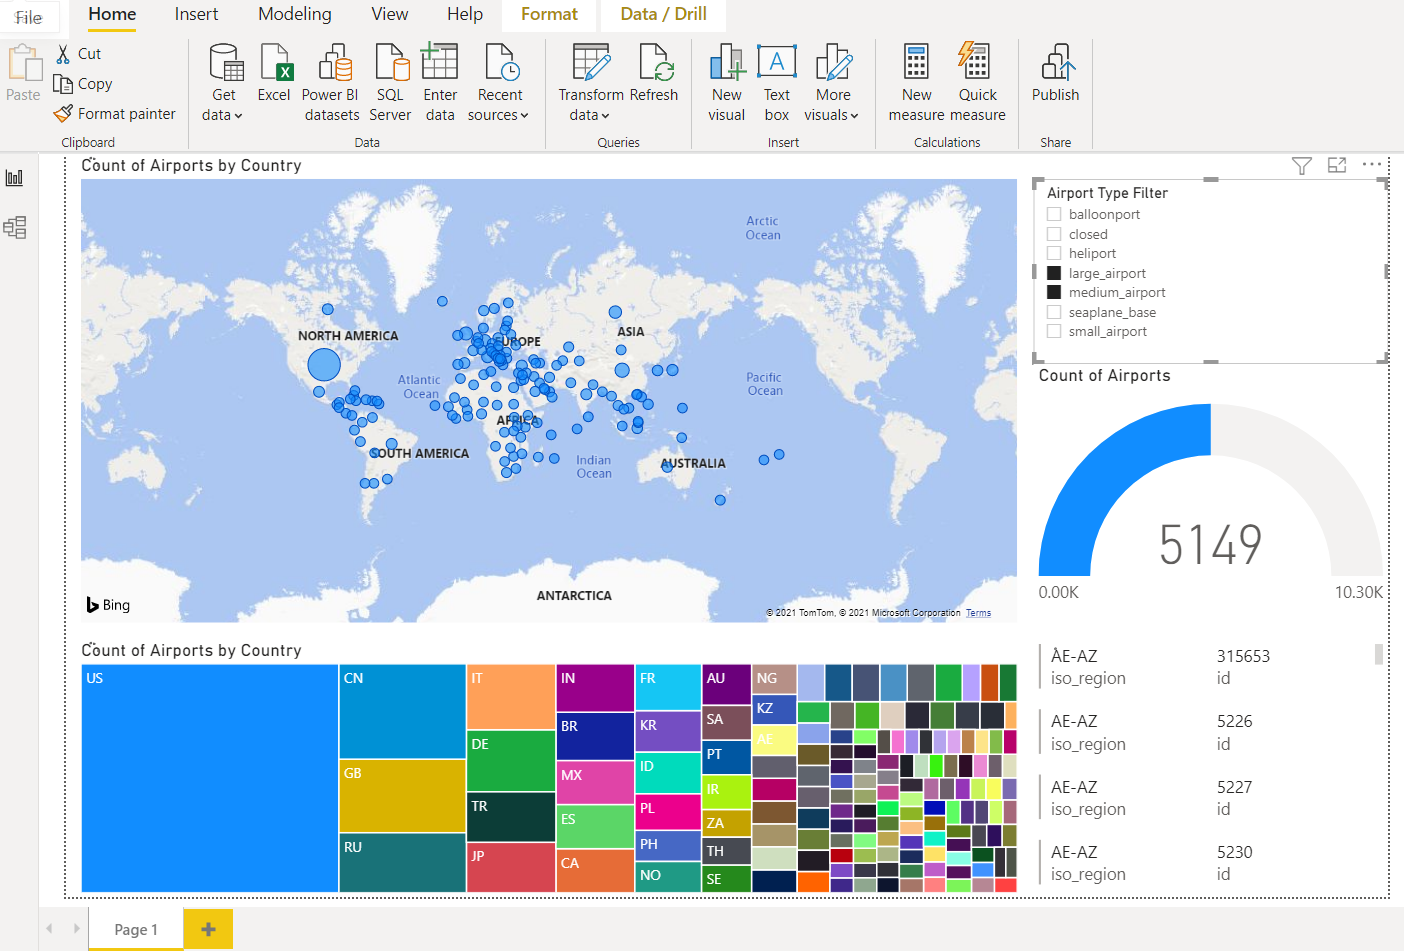

This screenshot's page, from the dashboard's own definition file:
{"tool":"powerbi","page":{"name":"Page 1","canvas":[1280,720],"ordinal":0},"visuals":[{"type":"map","fields":{"Category":["airports.iso_country"],"Size":["CountNonNull(airports.id)"]},"box":[9.6,0,916.1,458.7],"z":0},{"type":"treemap","fields":{"Group":["airports.iso_country"],"Values":["CountNonNull(airports.id)"]},"box":[10,469,916,251],"z":1000},{"type":"slicer","fields":{"Values":["airports.type"]},"box":[936.6,24.2,343.7,179.1],"z":1001},{"type":"gauge","fields":{"Y":["CountNonNull(airports.id)"]},"box":[937,203,343,256],"z":1002},{"type":"multiRowCard","fields":{"Values":["airports.iso_region","airports.id"]},"box":[937,469,343,251],"z":1003}]}

Visuals, with their boxes on the page's 1280x720 design canvas (x1, y1, x2, y2). These are canvas units, not pixel positions in the 1404x951 screenshot, which may show the page scaled, cropped or inside an application window:
map - airports.iso_country x CountNonNull(airports.id): select_region(10, 0, 926, 459)
treemap - airports.iso_country x CountNonNull(airports.id): select_region(10, 469, 926, 720)
slicer - airports.type: select_region(937, 24, 1280, 203)
gauge - CountNonNull(airports.id): select_region(937, 203, 1280, 459)
multiRowCard - airports.iso_region x airports.id: select_region(937, 469, 1280, 720)
